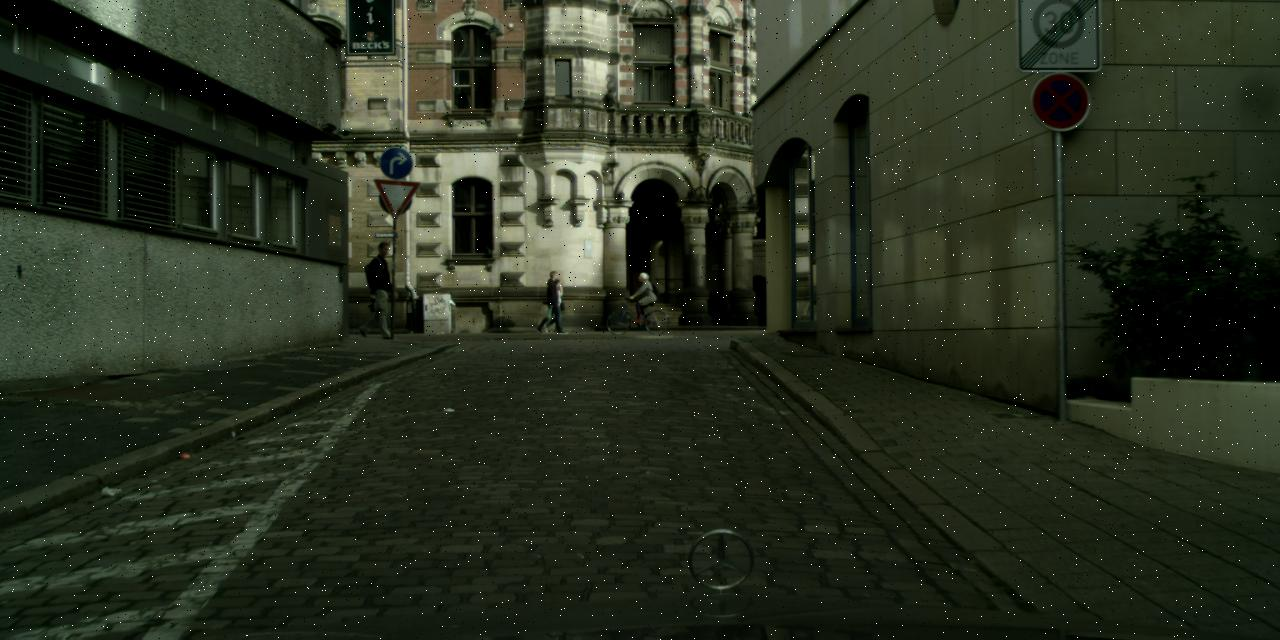ped: (359, 241, 398, 336), (540, 270, 565, 332), (632, 272, 654, 325), (544, 280, 564, 331)
